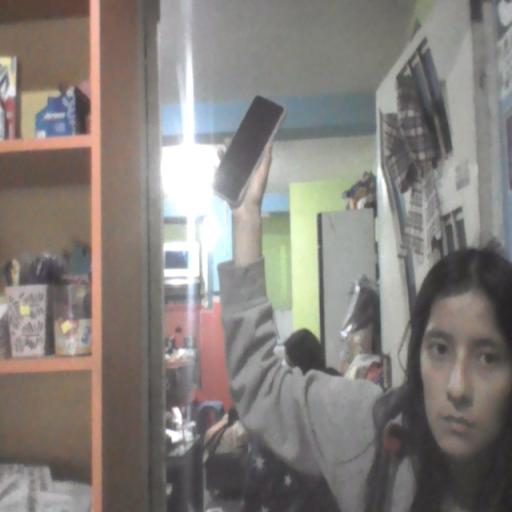phone: (209, 93, 286, 213)
